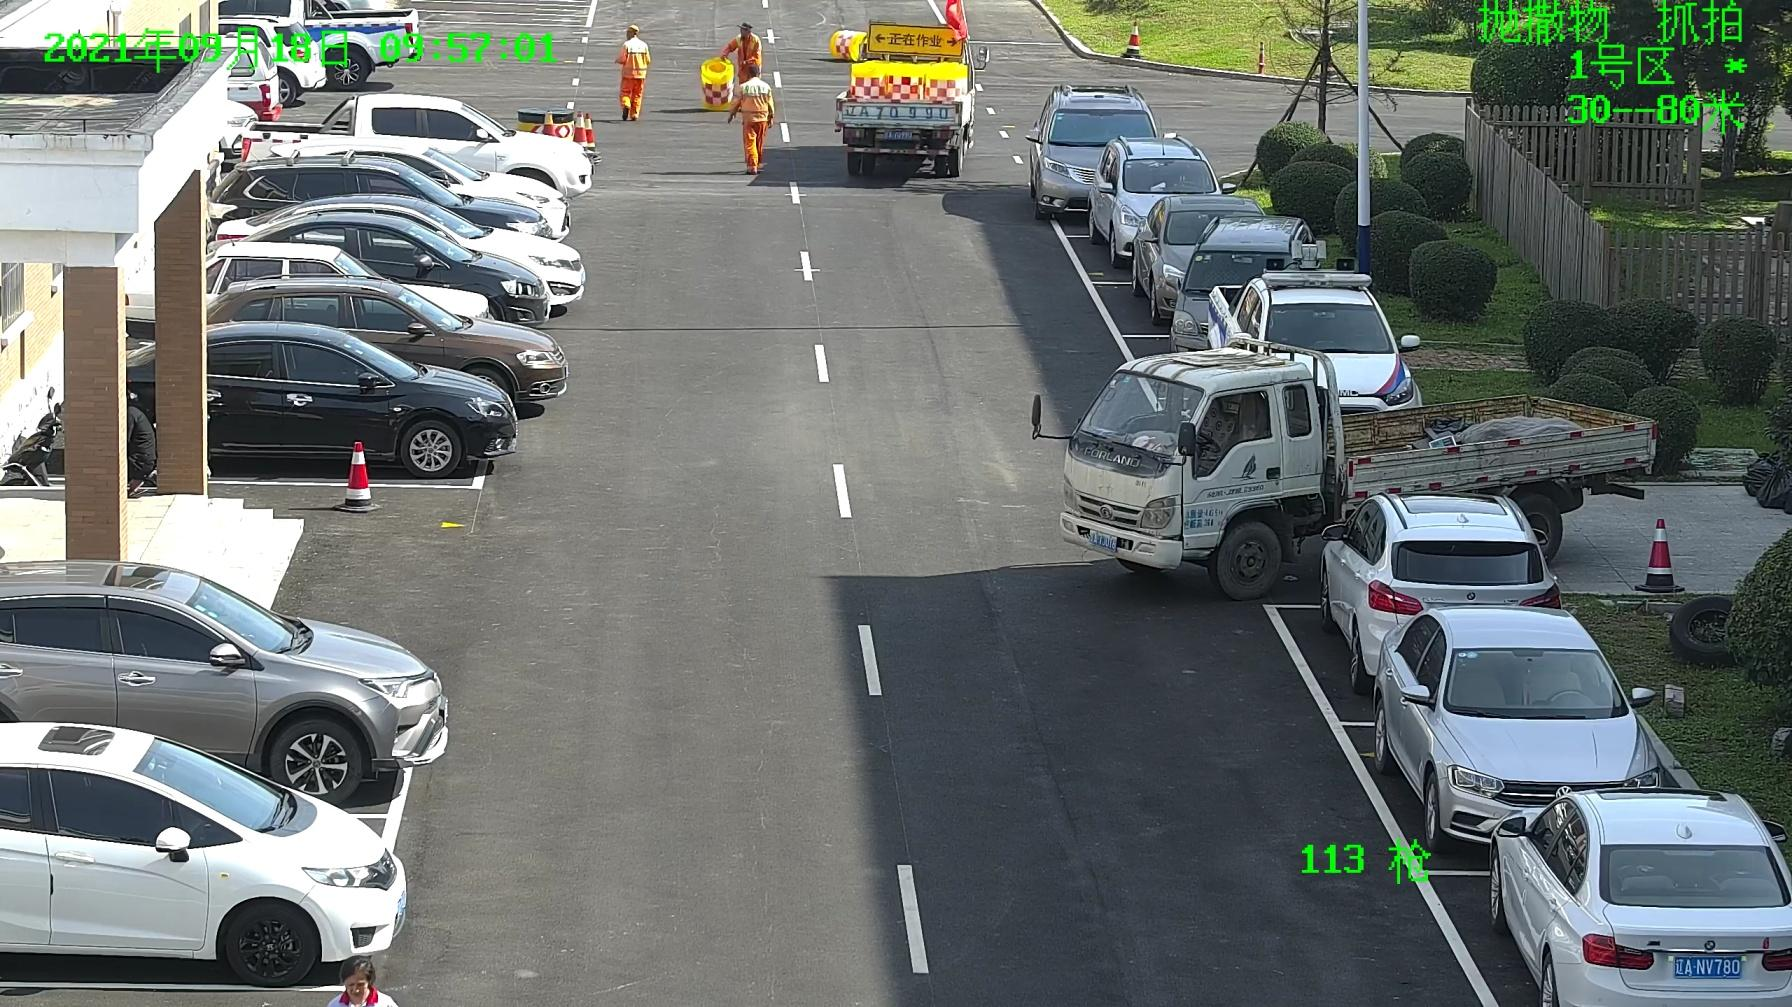cone_barrel: (924, 57, 967, 103), (882, 59, 923, 100), (699, 55, 732, 105), (846, 59, 882, 101), (827, 28, 868, 60)
